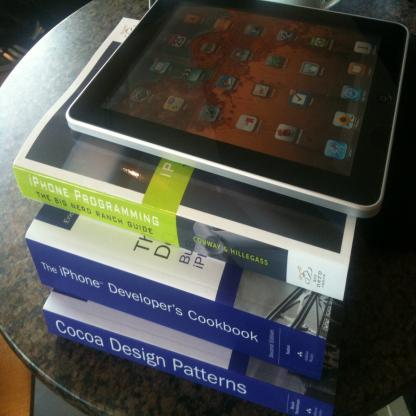book: (12, 17, 358, 303), (24, 202, 332, 377), (41, 298, 336, 416)
